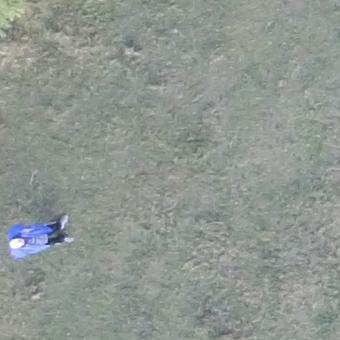human: (6, 212, 73, 261)
